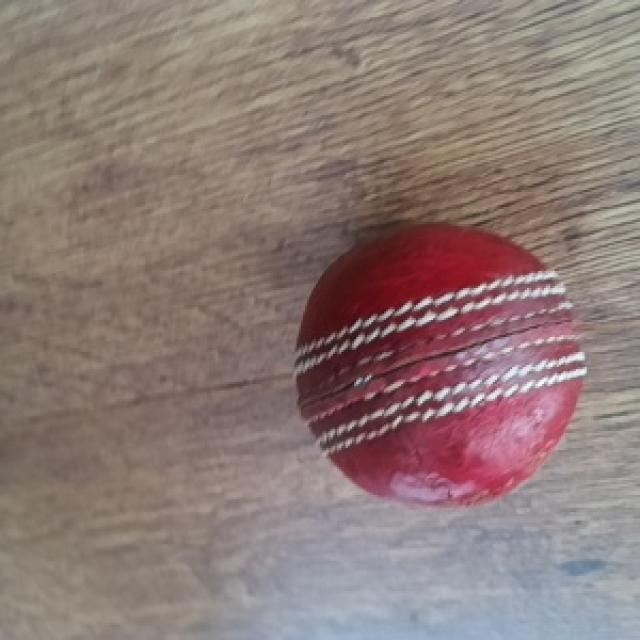ball: (299, 235, 590, 505)
